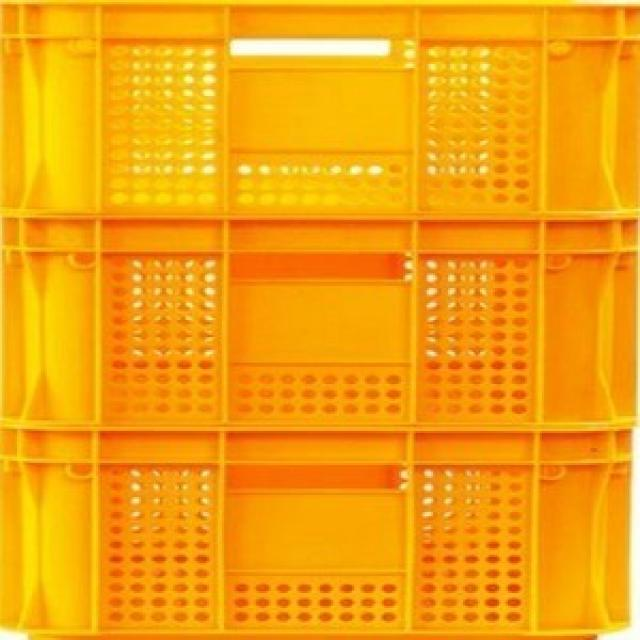basket: (0, 4, 640, 640)
